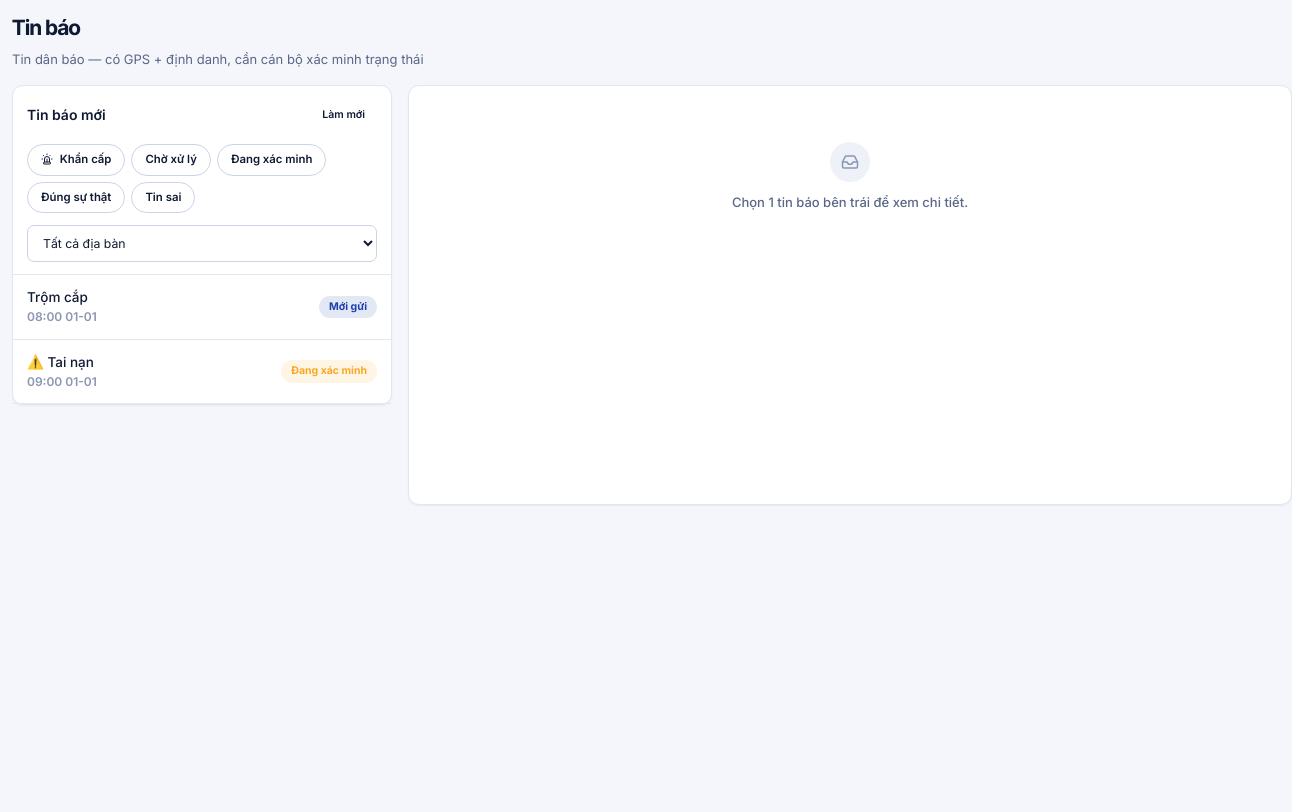
Scenario: ReportsPage › lists incoming reports and shows detail + duyệt action on selection
The image size is (1292, 812).
Expected: the text "Tai nạn" is shown, [48, 354, 94, 370]
Expected: the text "Chọn 1 tin báo bên trái để xem chi tiết." is shown, [732, 192, 968, 212]
Click the text "Trộm cắp": (62, 298) [27, 287, 97, 308]
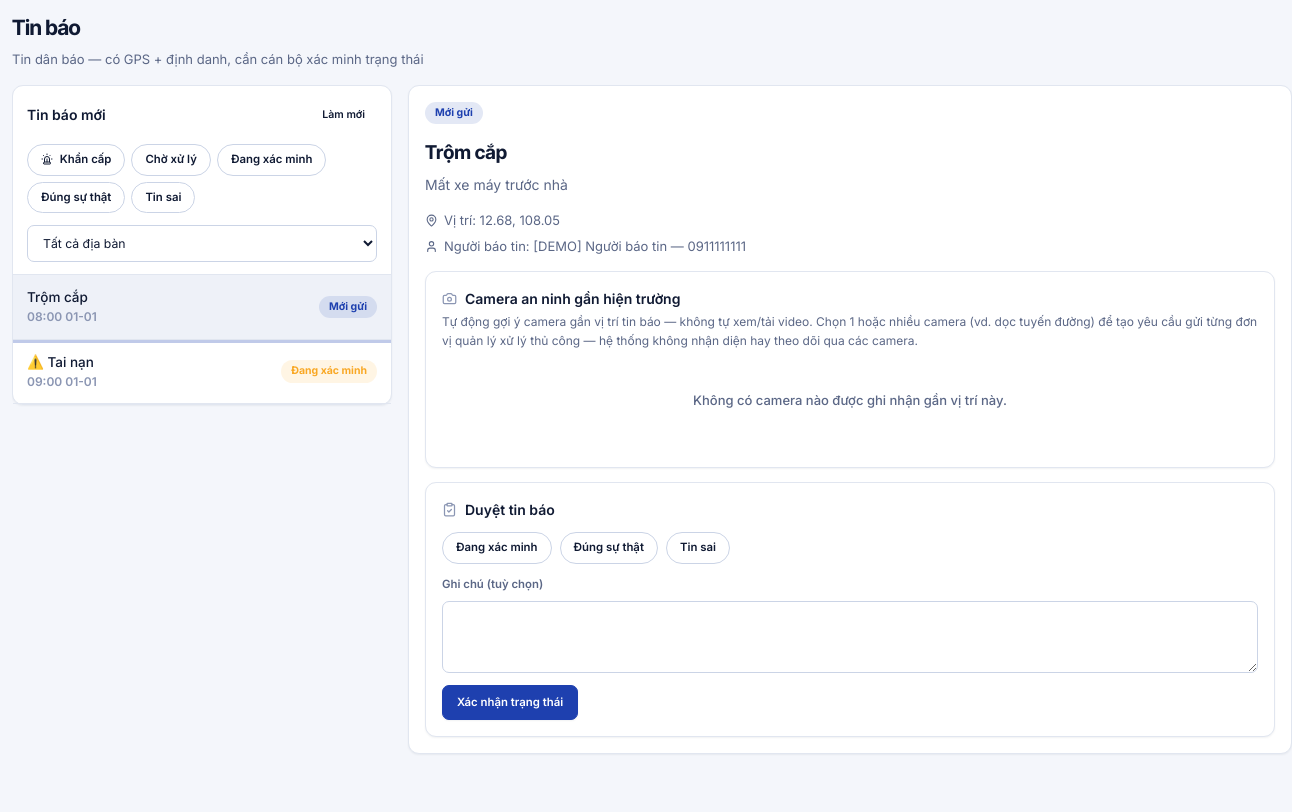
Result: the text "Mất xe máy trước nhà" is shown at [425, 176, 568, 193]
Result: the text "Người báo tin: [DEMO] Người báo tin — 0911111111" is shown at [425, 238, 746, 254]
Result: the text "Duyệt tin báo" is shown at [465, 499, 555, 520]
